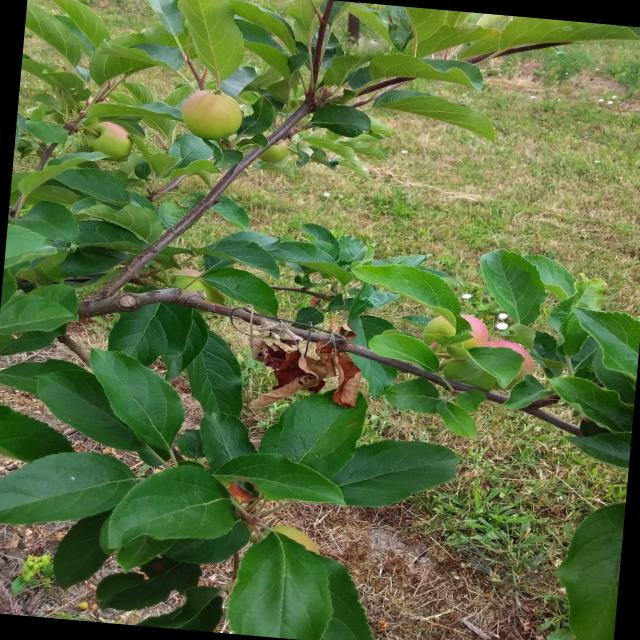-FireBlight-: (238, 314, 370, 408)
